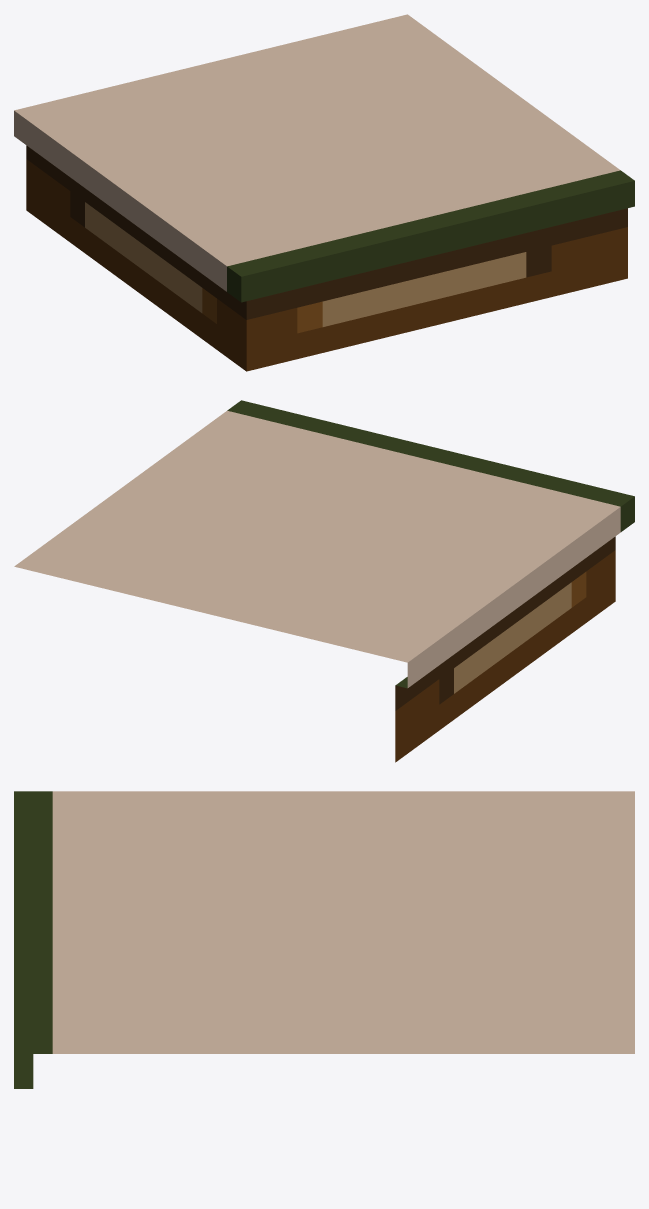
The model's file is counter_518x15.gltf.
3 views of the same model, one above another, from view 1: azimuth 30°, elevation 25°; view 2: azimuth 150°, elevation 25°; view 3: azimuth 270°, elevation 25° (orthographic). The views are drawn at different scales.
Parts seen in each view (by area): view 1: Counter_518x15; view 2: Counter_518x15; view 3: Counter_518x15.
Boxes of the visible parts, bbox=[...] form: Counter_518x15: bbox=[14, 14, 634, 371]; Counter_518x15: bbox=[14, 400, 634, 762]; Counter_518x15: bbox=[14, 791, 634, 1088].
Size of the model in its own units: 2.07 by 0.5175 by 2.07.
Materials: 1 (1 with a texture image).
